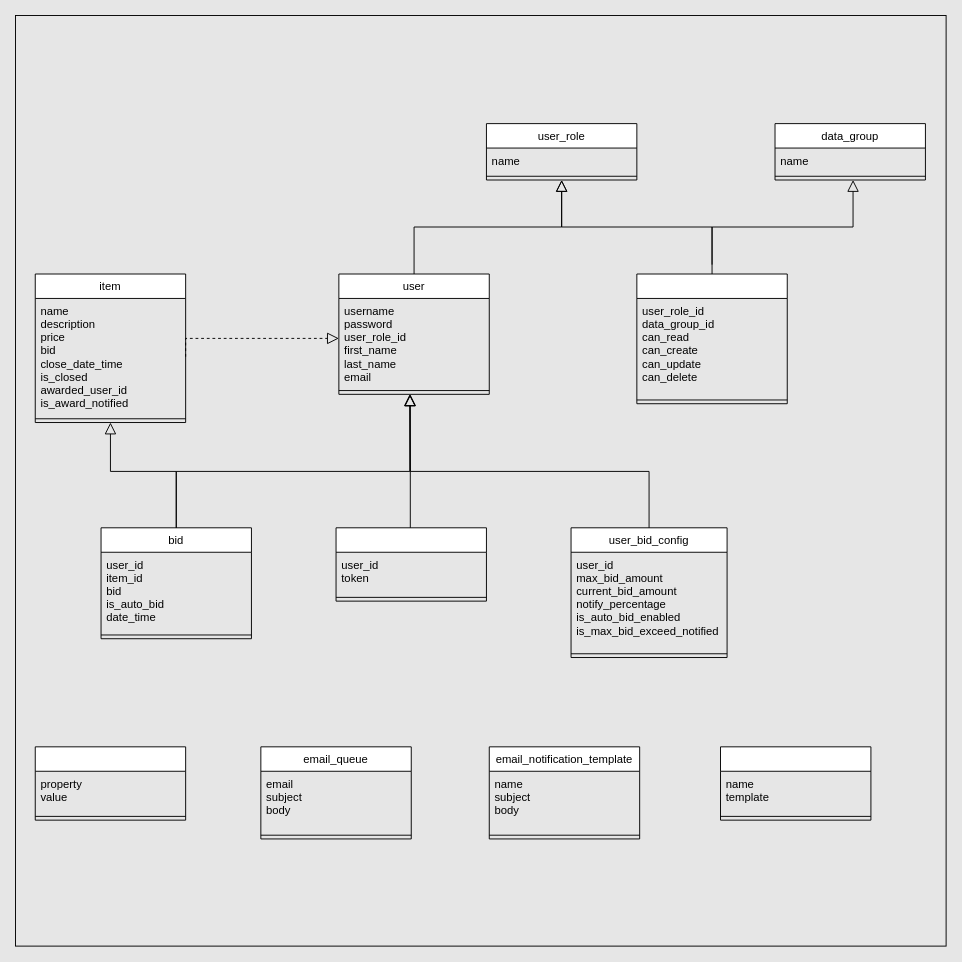
Image size: 962x962. Some labels were removed from this diagram. The box of each missing label's shape, as (x1, y1, x2, y2) in pixels:
access_token: (335, 527, 486, 601)
config: (34, 746, 186, 820)
item_bill_template: (720, 746, 871, 820)
user_role_data_group: (636, 273, 787, 404)
